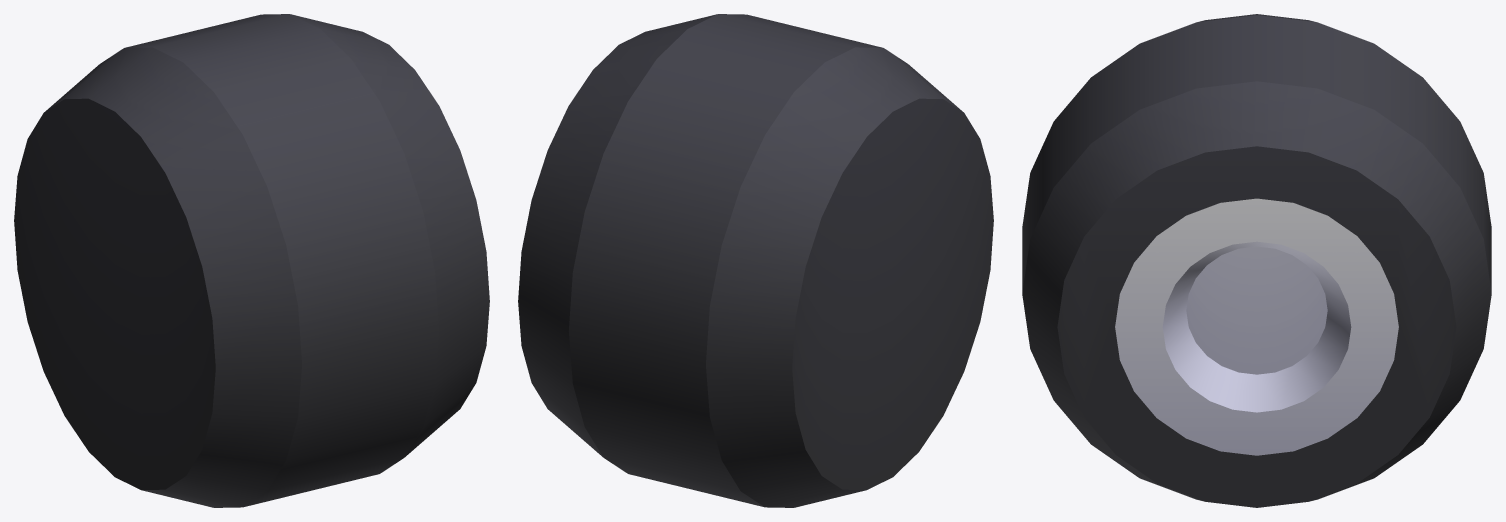
File: wheel-default.fbx
The picture shows the model from 3 angles, left to right: view 1: azimuth 30°, elevation 25°; view 2: azimuth 150°, elevation 25°; view 3: azimuth 270°, elevation 25°; orthographic projection.
Parts seen in each view (by area): view 1: wheel-default; view 2: wheel-default; view 3: wheel-default.
Part boxes in pixels (x1,y1,x2,y2): wheel-default: (14,14,489,507); wheel-default: (518,14,993,507); wheel-default: (1022,14,1491,507).
Size of the model in its own units: 40 by 60 by 60.
1 material, 1 textured.
